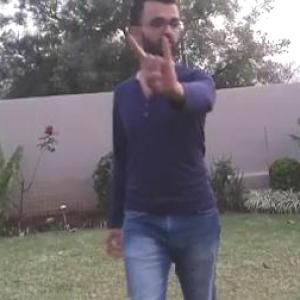takeoff-hand: (117, 32, 183, 101)
